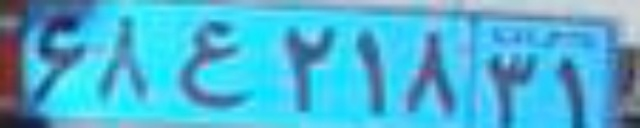1: (351, 27, 395, 115), (546, 56, 593, 127)
2: (279, 23, 340, 111)
3: (485, 50, 541, 126)
6: (27, 14, 88, 104)
8: (398, 30, 458, 116), (96, 14, 149, 105)
ain: (171, 19, 259, 110)
